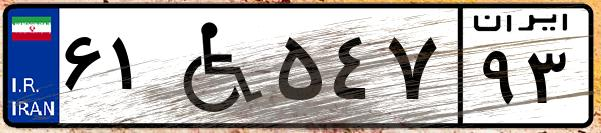1: (110, 28, 158, 98)
3: (525, 38, 570, 115)
4: (330, 28, 385, 110)
5: (270, 28, 330, 110)
6: (57, 26, 110, 100)
7: (385, 28, 445, 110)
9: (475, 38, 525, 113)
ژ (معلولین و جانبازان): (158, 12, 270, 120)
